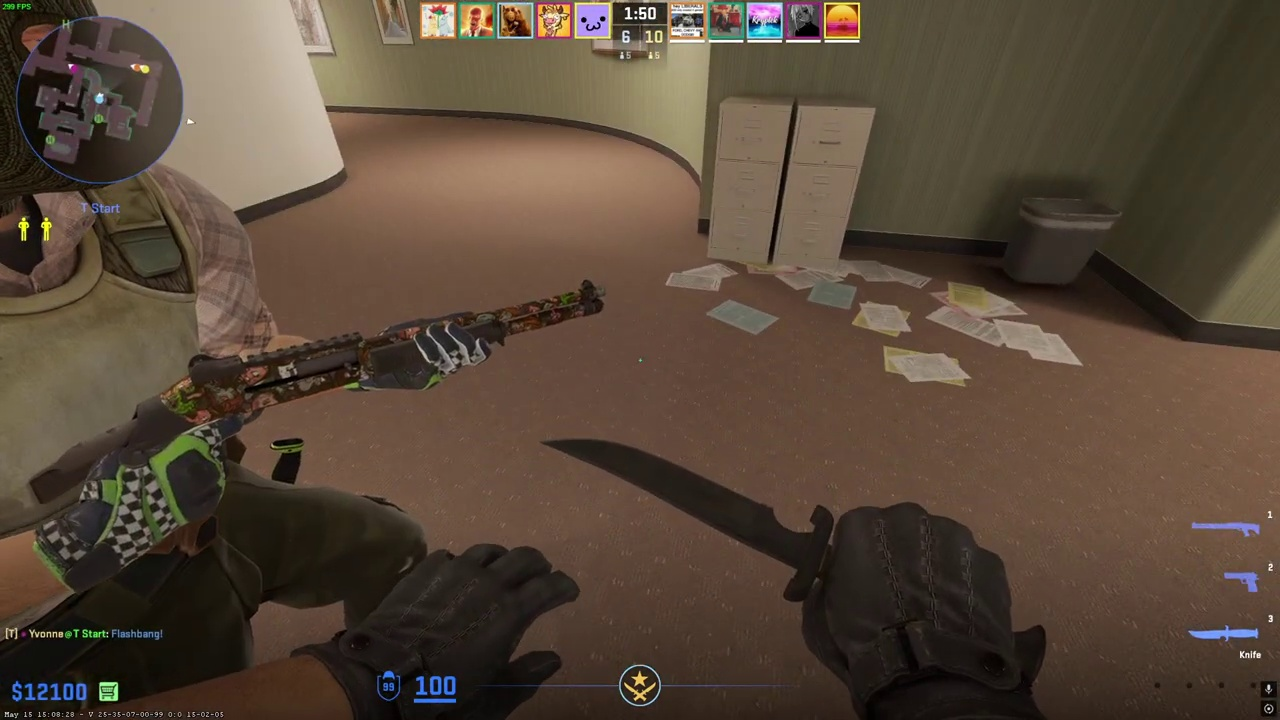Terrorist: (0, 2, 287, 710)
